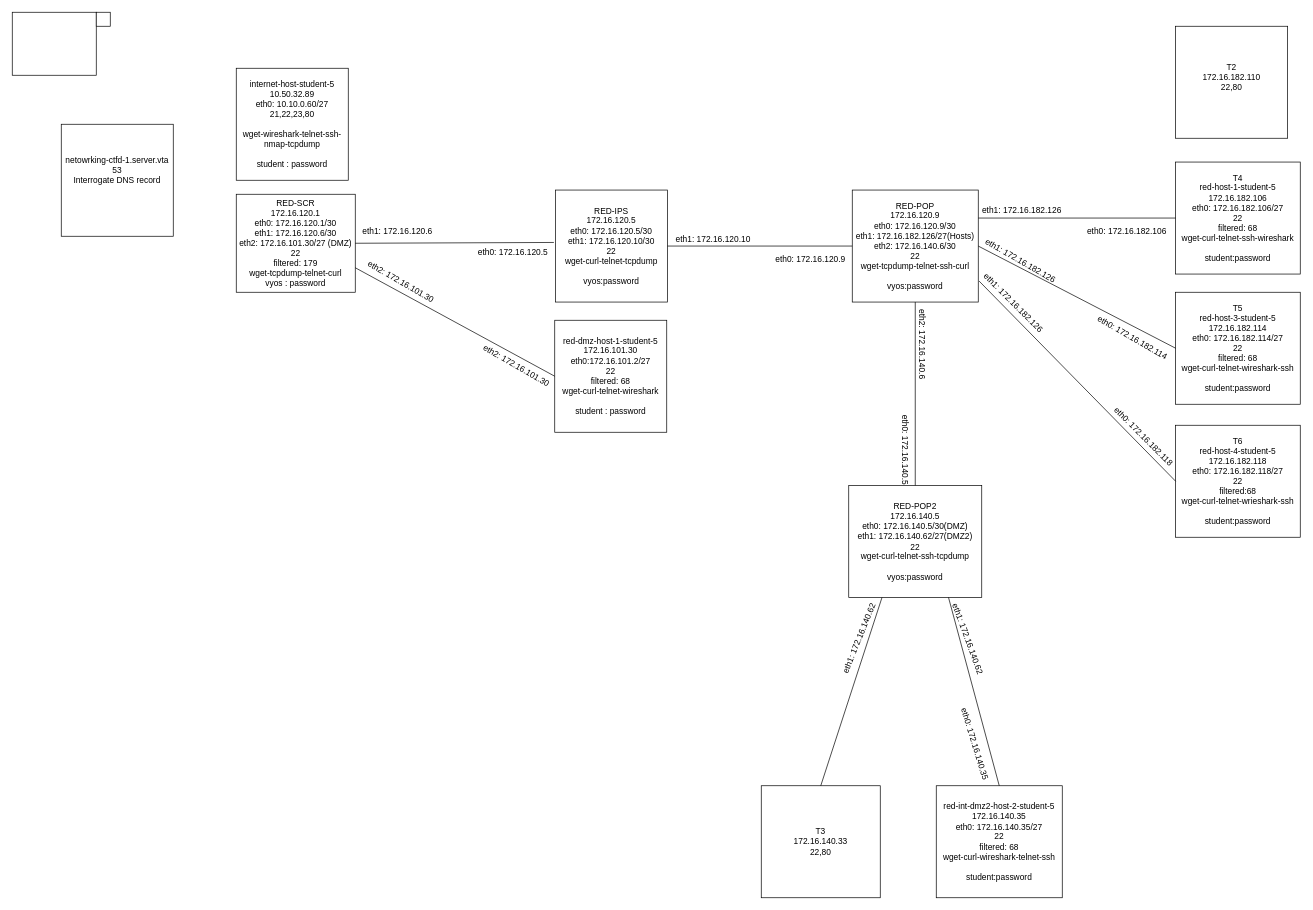
Image size: 1313x910. Some labels were removed from this diagram. The shapes that lost their labels are listed below. From the top down, each one's centre as x and y in pixels, then its label:
[103,19]: im portant documents and contents
[54,43]: HOSTNAME IP(S) PORTS TOOLS CREDENTIALS
